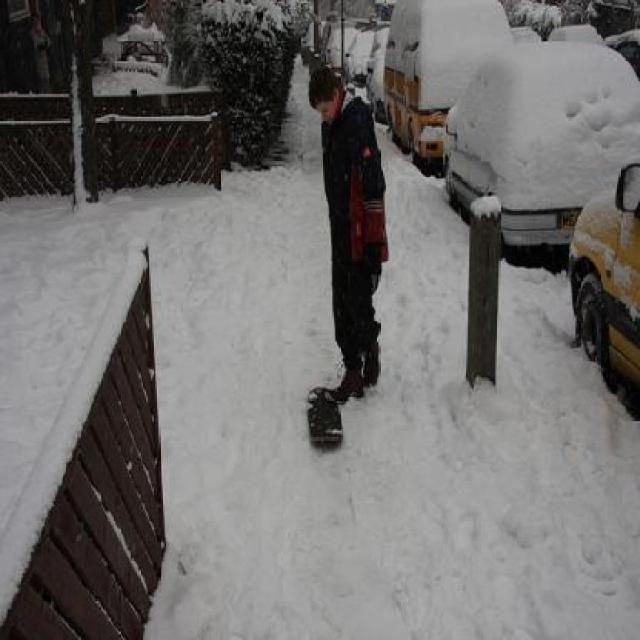Person: (306, 65, 388, 403)
